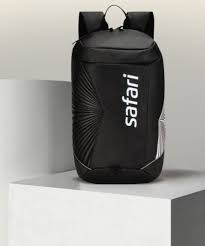backpack: (70, 4, 166, 184)
